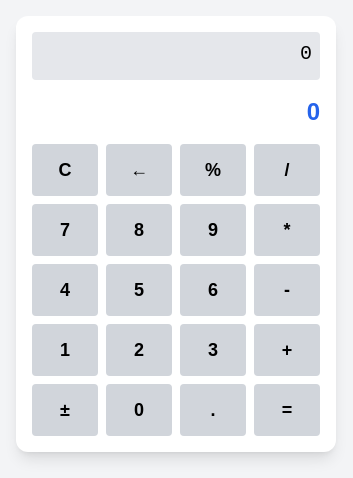
Calculator Component › should handle complex expression
The width and height of the screenshot is (353, 478).
Click the button "1" at (65, 350), box [32,324,98,376]
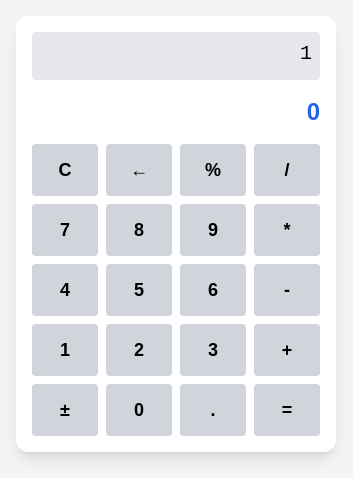
Click the button "+" at (287, 350), box [254,324,320,376]
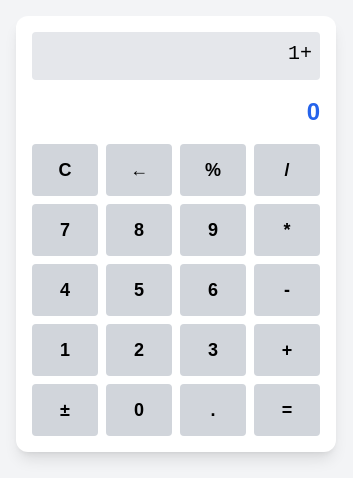
Click the button "2" at (139, 350), box [106,324,172,376]
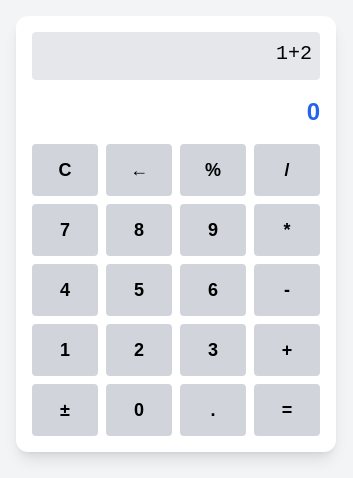
Click the button "*" at (287, 230), box [254,204,320,256]
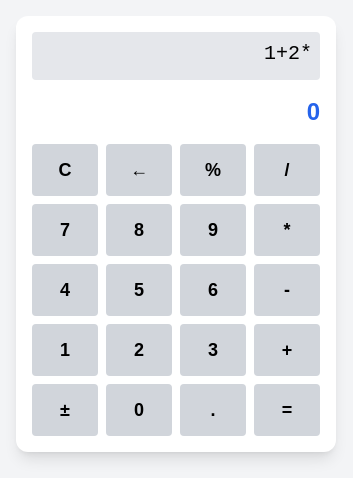
Click the button "3" at (213, 350), box [180,324,246,376]
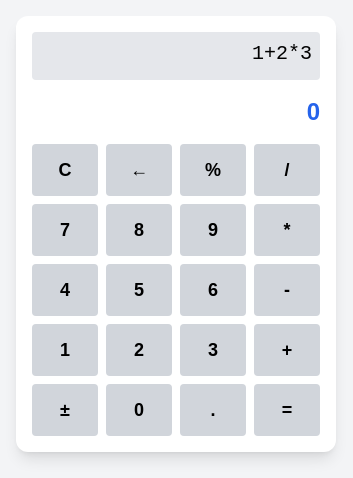
Click the button "=" at (287, 410), box [254,384,320,436]
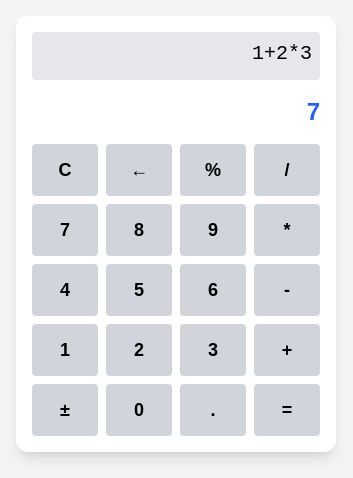
Expected: the text "7" is shown, [307,98,320,125]
